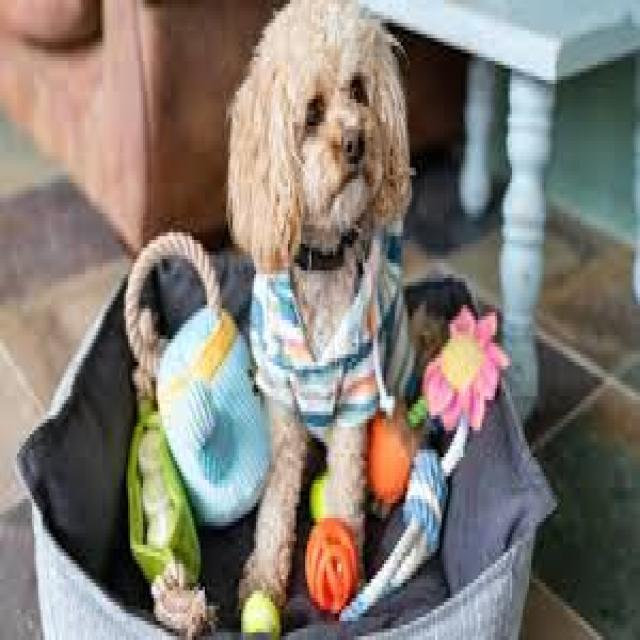dog: (253, 54, 442, 396)
